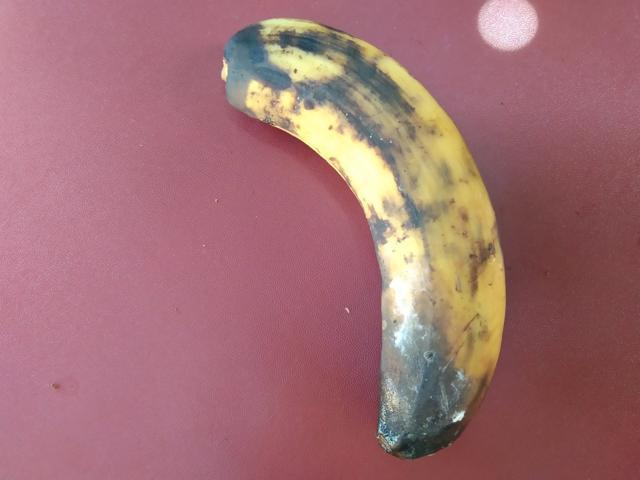rotten: (210, 5, 557, 479)
